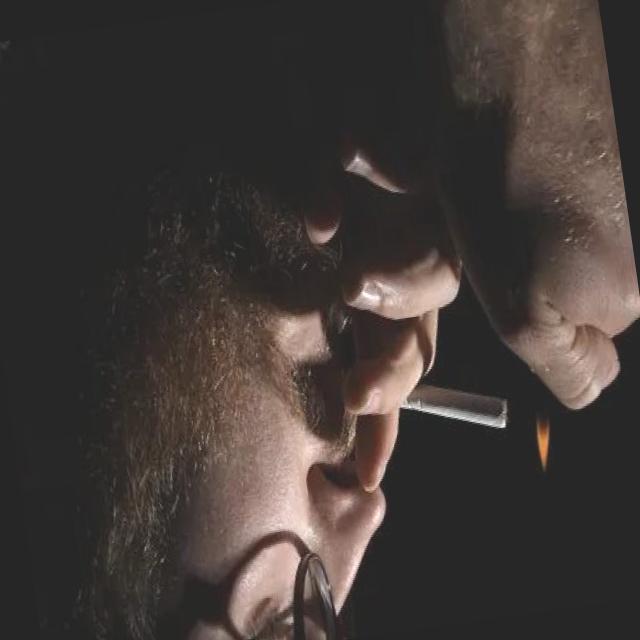smoke: (388, 358, 518, 454)
